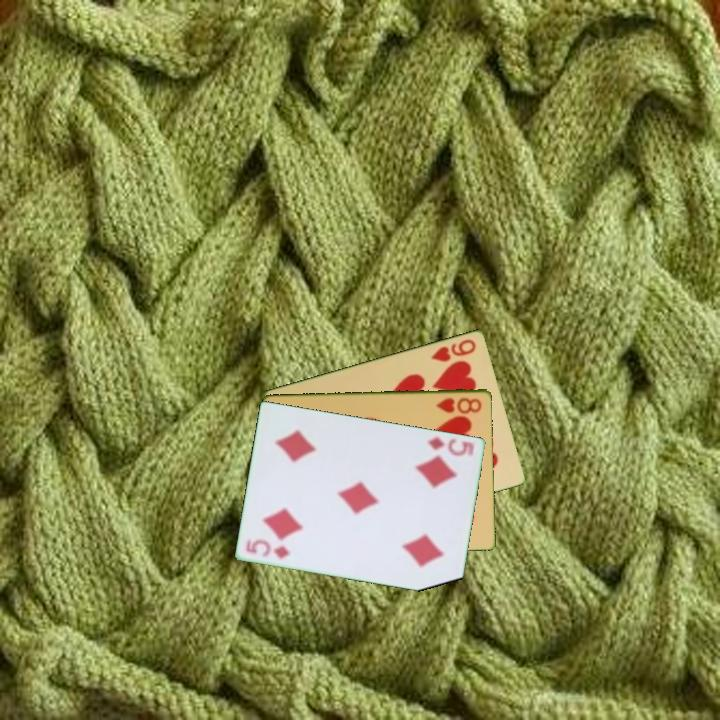5d: (424, 433, 478, 459), (242, 535, 292, 562)
8h: (432, 394, 485, 415)
9h: (427, 335, 479, 364)
